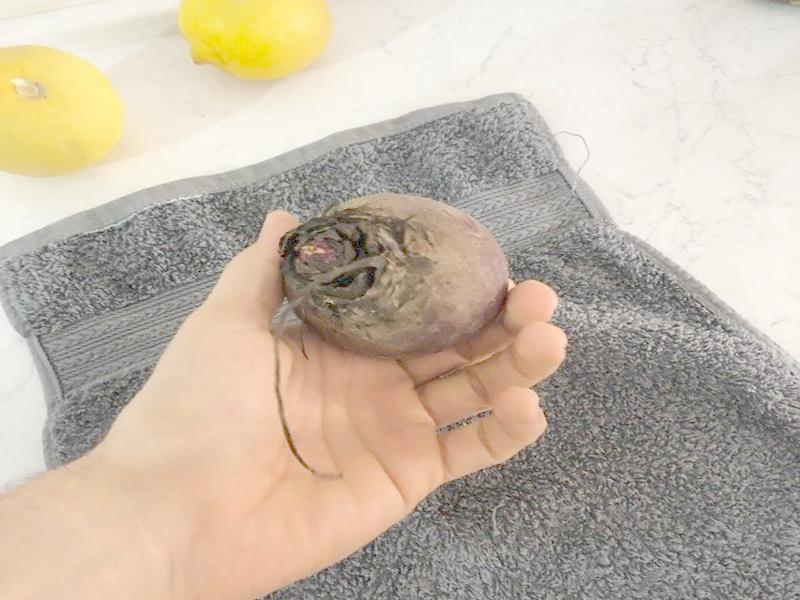Beet: (280, 192, 511, 478)
